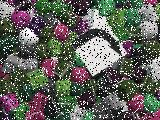Right: (70, 18, 128, 76)
